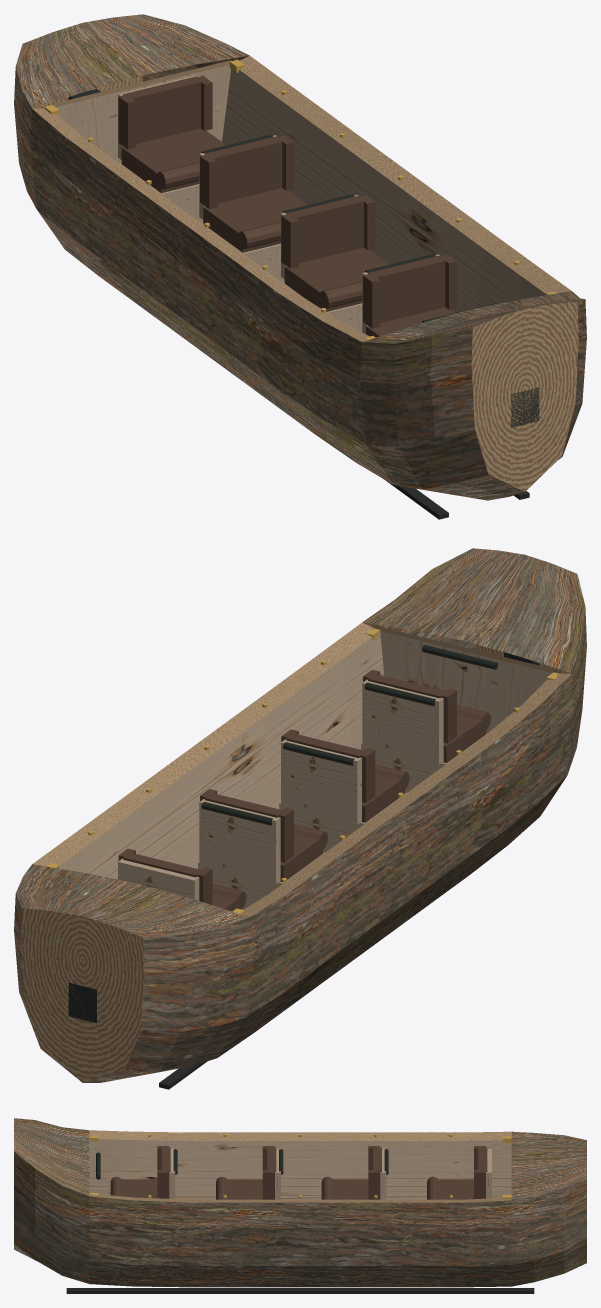
File: boat.glb
3 renders of one model, top to bottom at view 1: azimuth 30°, elevation 25°; view 2: azimuth 150°, elevation 25°; view 3: azimuth 270°, elevation 25°, orthographic. The views are drawn at different scales.
Visible parts, largest first — view 1: Hull_OuterBark, Seat_Cushions_Upholstery, Cockpit_TimberInterior, Hull_CutEnds, Hull_CarvedRim, Seat_Benches_Timber, Hardware_DarkFittings; view 2: Hull_OuterBark, Cockpit_TimberInterior, Seat_Benches_Timber, Hull_CutEnds, Hull_CarvedRim, Seat_Cushions_Upholstery, Hardware_DarkFittings; view 3: Hull_OuterBark, Cockpit_TimberInterior, Seat_Cushions_Upholstery, Hull_CarvedRim, Hardware_DarkFittings, Seat_Benches_Timber, Hardware_BrassFasteners.
Part boxes in pixels (bbox=[...]): Hull_OuterBark: bbox=[14, 14, 586, 500]; Seat_Cushions_Upholstery: bbox=[118, 76, 456, 337]; Cockpit_TimberInterior: bbox=[56, 65, 546, 312]; Hull_CutEnds: bbox=[33, 75, 578, 491]; Hull_CarvedRim: bbox=[32, 56, 571, 341]; Seat_Benches_Timber: bbox=[118, 75, 439, 334]; Hardware_DarkFittings: bbox=[68, 89, 539, 519]; Hull_OuterBark: bbox=[14, 548, 586, 1082]; Cockpit_TimberInterior: bbox=[59, 631, 551, 879]; Seat_Benches_Timber: bbox=[118, 679, 487, 909]; Hull_CutEnds: bbox=[21, 644, 571, 1082]; Hull_CarvedRim: bbox=[32, 622, 571, 917]; Seat_Cushions_Upholstery: bbox=[118, 669, 490, 911]; Hardware_DarkFittings: bbox=[68, 645, 539, 1089]; Hull_OuterBark: bbox=[14, 1118, 586, 1287]; Cockpit_TimberInterior: bbox=[89, 1139, 511, 1199]; Seat_Cushions_Upholstery: bbox=[110, 1146, 487, 1199]; Hull_CarvedRim: bbox=[89, 1130, 511, 1202]; Hardware_DarkFittings: bbox=[66, 1149, 534, 1293]; Seat_Benches_Timber: bbox=[169, 1148, 491, 1199]; Hardware_BrassFasteners: bbox=[89, 1134, 511, 1198].
Bounding box in the file's own units: 1.12 × 1.09 × 3.8.
6 materials, 3 textured.
